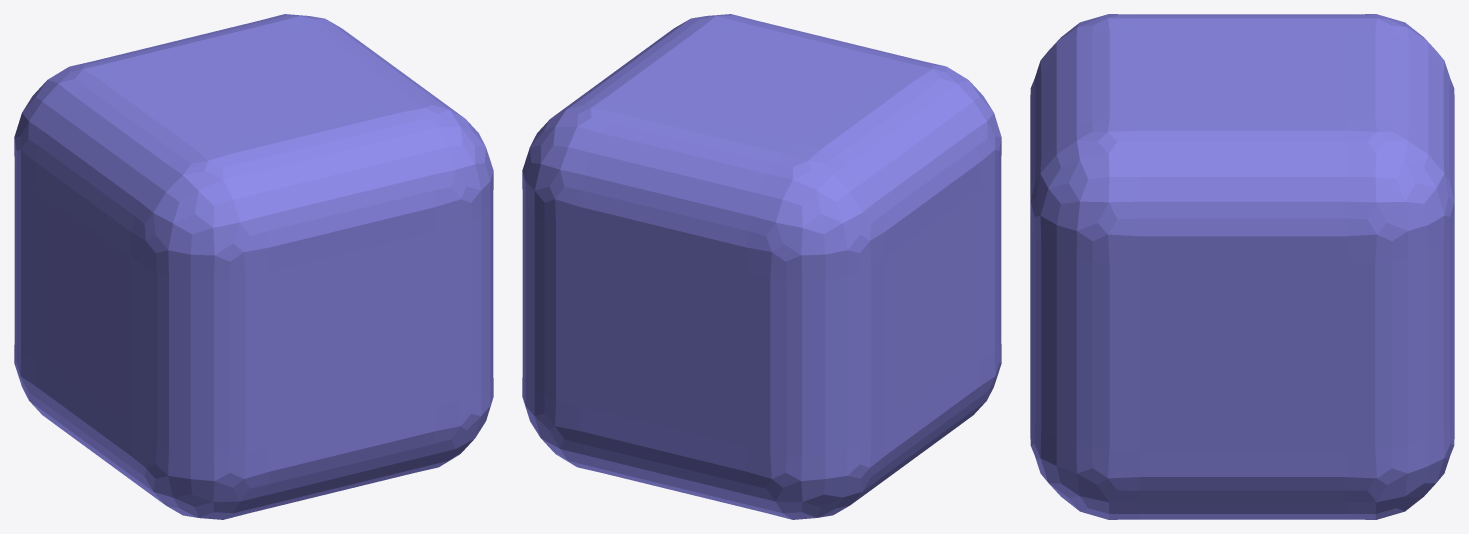
The model's file is unit_cube.glb.
The picture shows the model from 3 angles, left to right: view 1: azimuth 30°, elevation 25°; view 2: azimuth 150°, elevation 25°; view 3: azimuth 270°, elevation 25°; orthographic projection. The views are drawn at different scales.
Parts seen in each view (by area): view 1: Cube; view 2: Cube; view 3: Cube.
Part boxes in pixels (x1,y1,x2,y2): Cube: [14, 14, 493, 519]; Cube: [522, 14, 1001, 519]; Cube: [1030, 14, 1454, 519].
Size of the model in its own units: 1 by 1 by 1.
